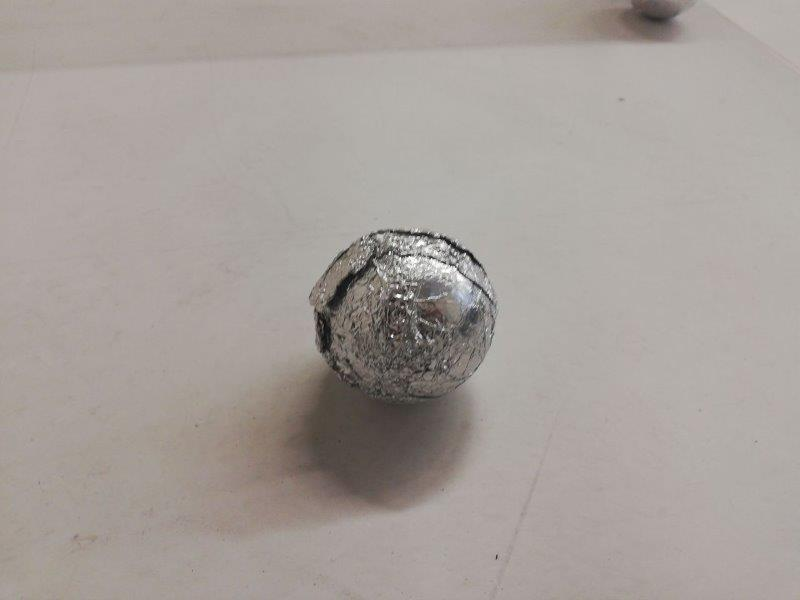bianca: (317, 227, 493, 398)
